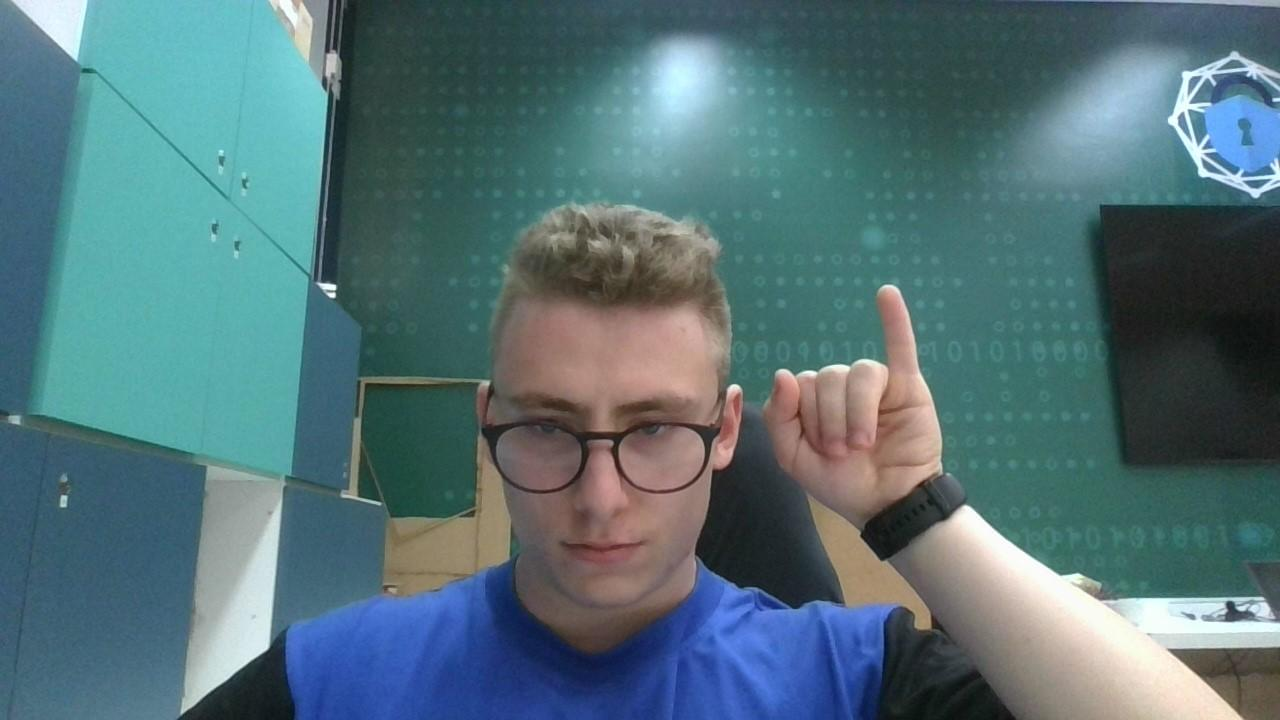I: (758, 282, 952, 490)
